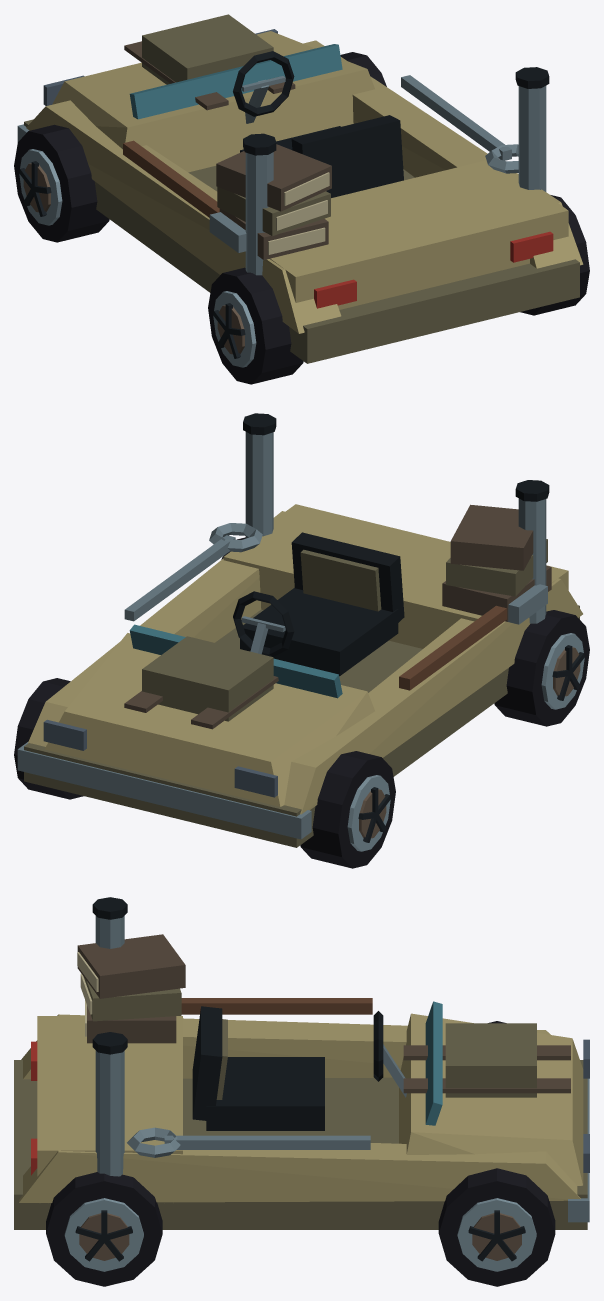
Rendered from kart.glb.
3 views of the same model, one above another, from view 1: azimuth 30°, elevation 25°; view 2: azimuth 150°, elevation 25°; view 3: azimuth 270°, elevation 25° (orthographic).
Visible parts, largest first — view 1: identity-muscle-car-muscle-car-road-car-body, identity-muscle-car-motif-books, identity-muscle-car-driver-cockpit, wheel-front-left, wheel-rear-left, identity-muscle-car-motif-exhaust, identity-muscle-car-motif-tools, wheel-rear-right, wheel-front-right; view 2: identity-muscle-car-muscle-car-road-car-body, identity-muscle-car-driver-cockpit, identity-muscle-car-motif-books, wheel-front-left, wheel-rear-left, identity-muscle-car-motif-tools, identity-muscle-car-motif-exhaust, wheel-front-right; view 3: identity-muscle-car-muscle-car-road-car-body, identity-muscle-car-driver-cockpit, wheel-front-right, wheel-rear-right, identity-muscle-car-motif-books, identity-muscle-car-motif-tools, identity-muscle-car-motif-exhaust.
Part boxes in pixels (x1,y1,x2,y2): identity-muscle-car-muscle-car-road-car-body: (17, 14, 583, 363); identity-muscle-car-motif-books: (216, 144, 331, 259); identity-muscle-car-driver-cockpit: (233, 51, 403, 197); wheel-front-left: (14, 124, 109, 242); wheel-rear-left: (208, 267, 303, 384); identity-muscle-car-motif-exhaust: (243, 67, 549, 275); identity-muscle-car-motif-tools: (123, 75, 518, 252); wheel-rear-right: (520, 195, 589, 315); wheel-front-right: (340, 52, 386, 86); identity-muscle-car-muscle-car-road-car-body: (17, 504, 582, 847); identity-muscle-car-driver-cockpit: (233, 532, 404, 676); identity-muscle-car-motif-books: (442, 504, 551, 621); wheel-front-left: (300, 751, 395, 868); wheel-rear-left: (494, 610, 589, 726); identity-muscle-car-motif-tools: (124, 523, 547, 690); identity-muscle-car-motif-exhaust: (243, 413, 549, 623); wheel-front-right: (14, 678, 83, 799); identity-muscle-car-muscle-car-road-car-body: (14, 1001, 589, 1229); identity-muscle-car-driver-cockpit: (192, 1006, 406, 1130); wheel-front-right: (438, 1168, 555, 1286); wheel-rear-right: (46, 1172, 162, 1286); identity-muscle-car-motif-books: (77, 934, 185, 1043); identity-muscle-car-motif-tools: (127, 998, 372, 1157); identity-muscle-car-motif-exhaust: (92, 897, 127, 1176).
Bounding box in the file's own units: 2.07 × 1.33 × 2.96.
